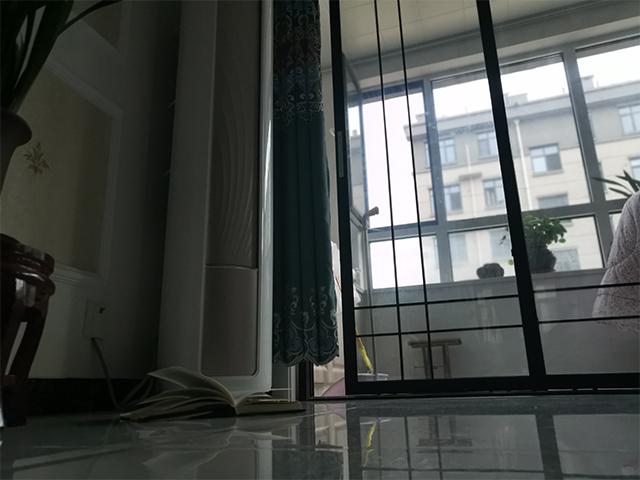book: (115, 364, 307, 427)
curtain: (270, 1, 342, 369)
stool: (1, 233, 58, 430), (407, 336, 464, 380)
wire: (88, 338, 155, 414)
